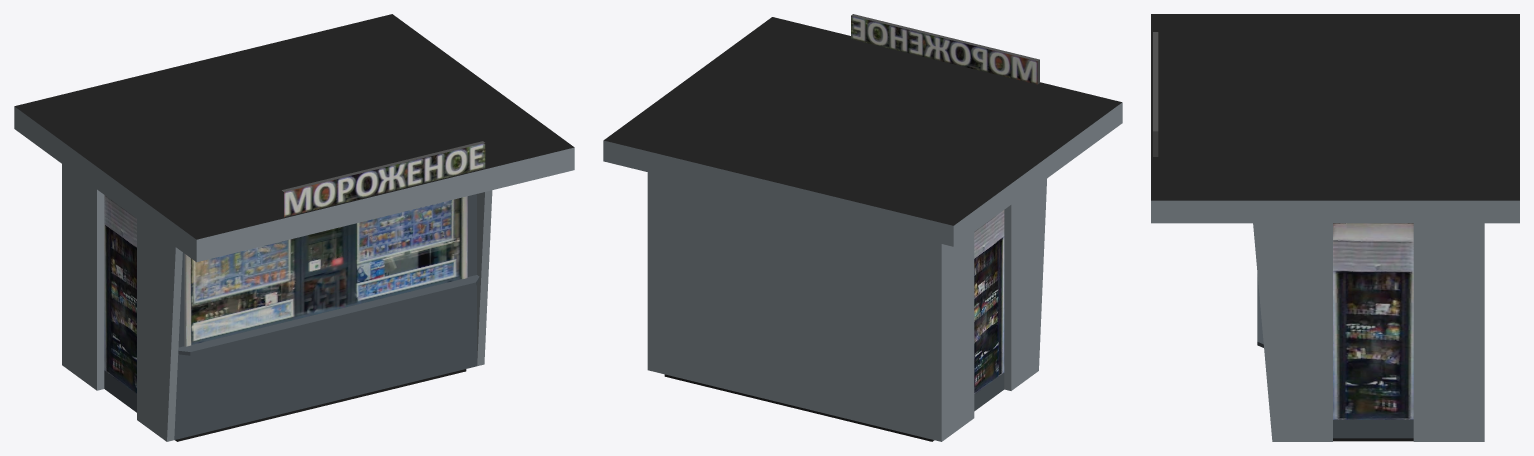
File: sf_kiosk_a.glb
3 renders of one model, left to right at view 1: azimuth 30°, elevation 25°; view 2: azimuth 150°, elevation 25°; view 3: azimuth 270°, elevation 25°, orthographic. The views are drawn at different scales.
Size of the model in its own units: 3 by 2.16 by 2.51.
Materials: 8 (3 with a texture image).
